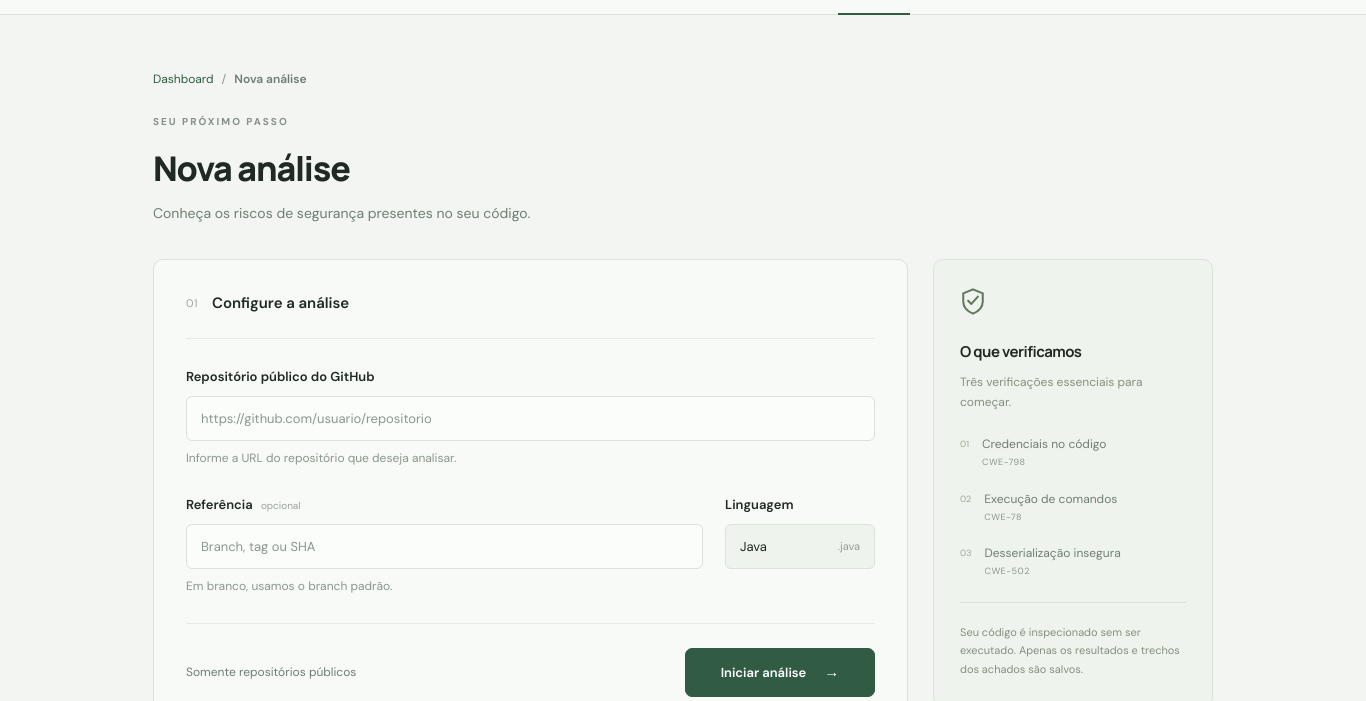
Scenario: fluxo autenticado da análise › mostra erro legível e permite nova tentativa
Type "https://github.com/acme/demo" into the field labelled "Repositório público do GitHub". click: {"x": 530, "y": 418}
box: [186,396,875,441]
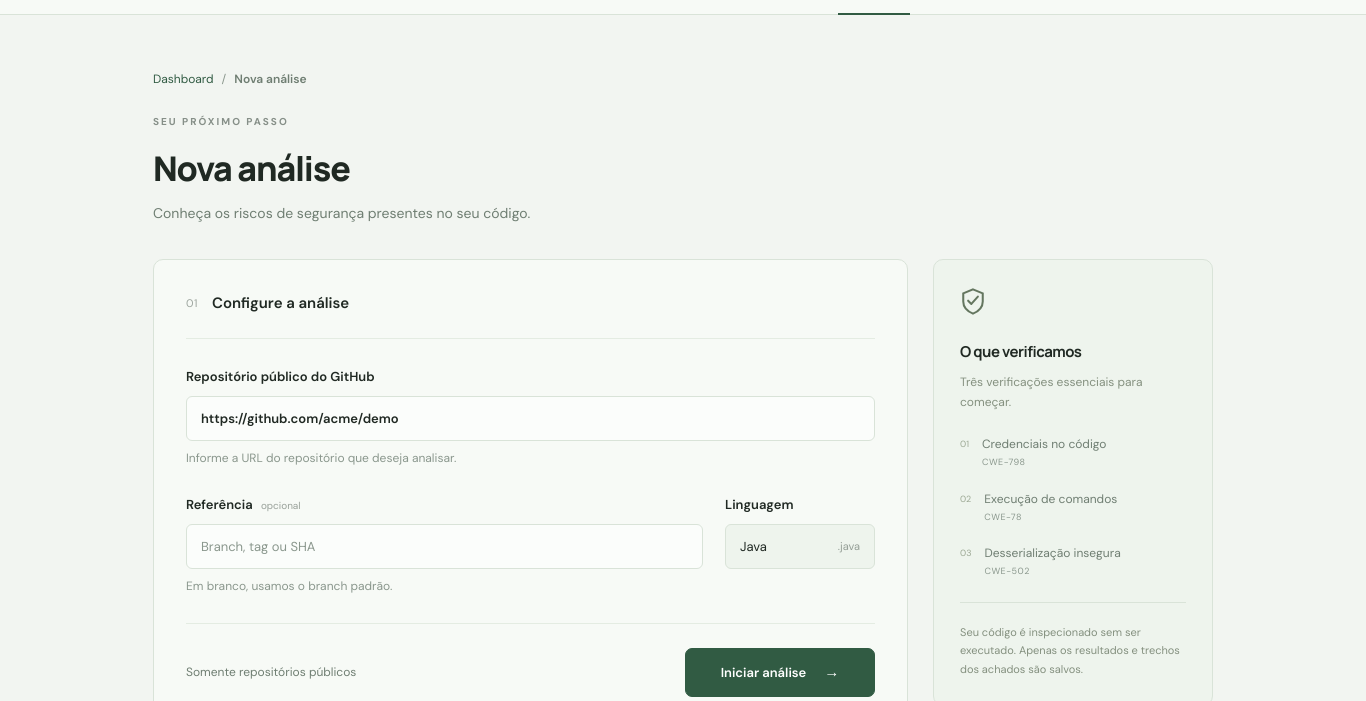
Click the button "Iniciar análise →". click: {"x": 780, "y": 672}
box: [685,648,875,696]
(page scrolled)
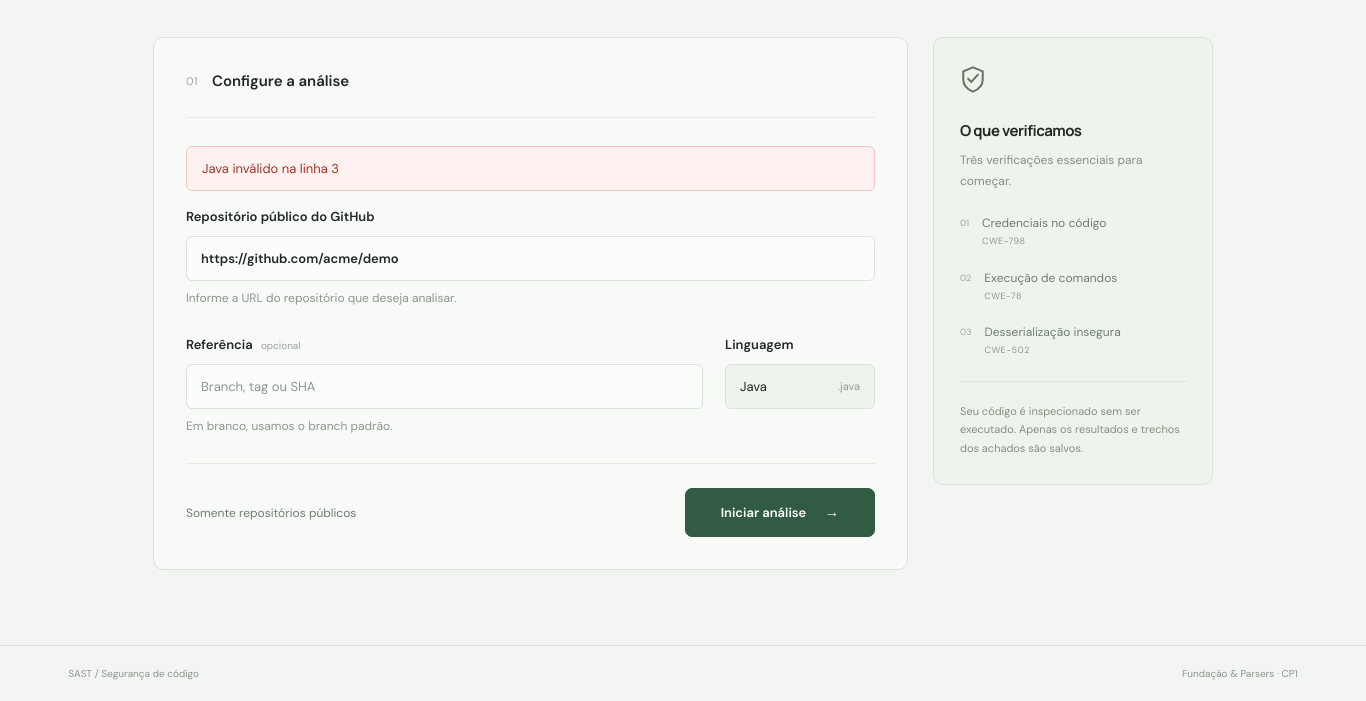
Expected: the button "Iniciar análise →" is enabled, [685,488,875,537]
Now the message reads "Java inválido na linha 3", box [202,160,339,177]
